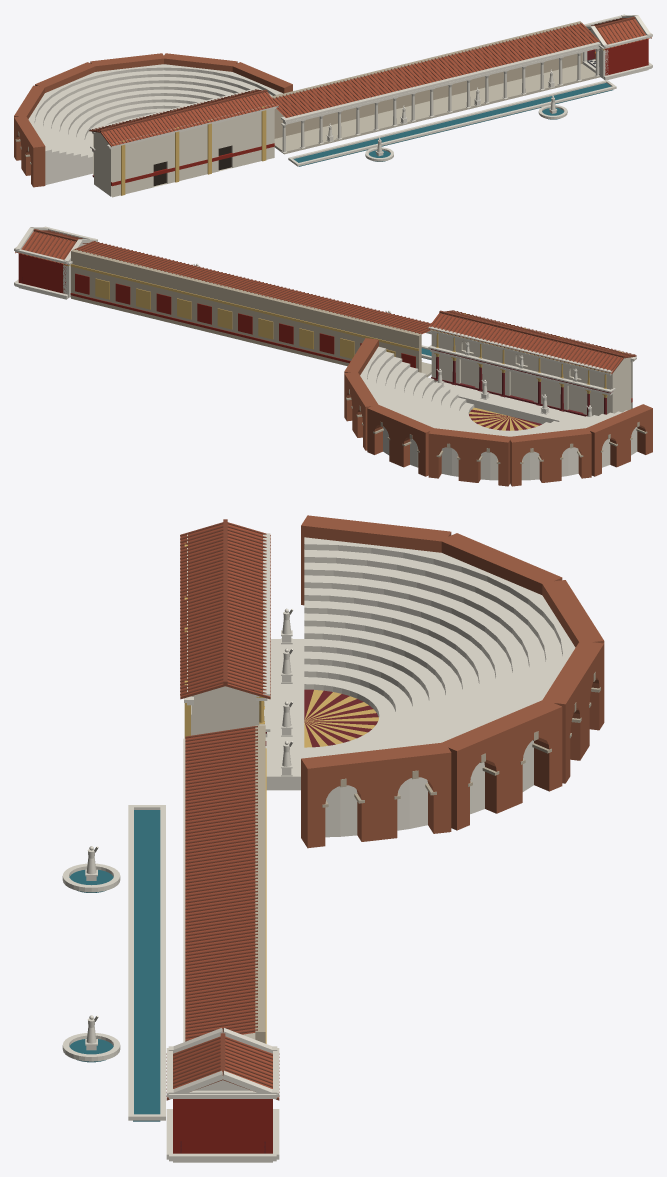
File: rome_nero_theatre.glb
3 renders of one model, top to bottom at view 1: azimuth 30°, elevation 25°; view 2: azimuth 150°, elevation 25°; view 3: azimuth 270°, elevation 25°, orthographic. The views are drawn at different scales.
Parts seen in each view (by area): view 1: rome_nero_theatre; view 2: rome_nero_theatre; view 3: rome_nero_theatre.
Boxes of the visible parts, x1=… form: rome_nero_theatre: x1=14, y1=14, x2=652, y2=197; rome_nero_theatre: x1=14, y1=226, x2=652, y2=486; rome_nero_theatre: x1=62, y1=515, x2=604, y2=1162.
Size of the model in its own units: 108 by 10.97 by 43.27.
